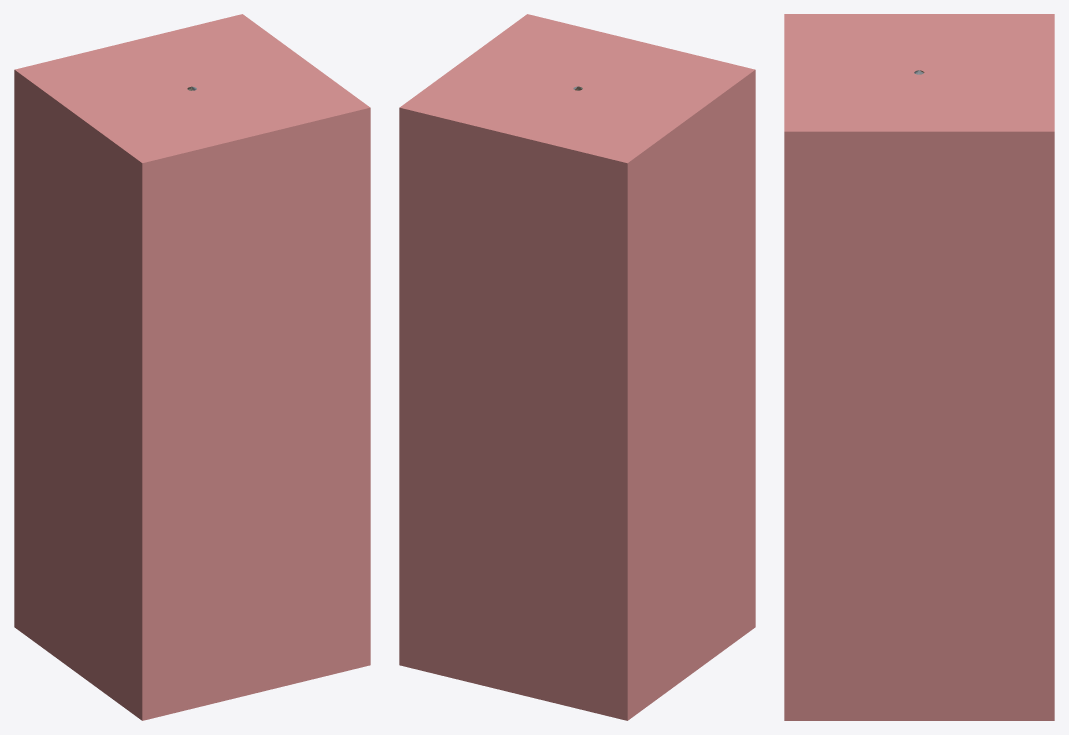
The model's file is watertower_unbroken.DAE.
The picture shows the model from 3 angles, left to right: view 1: azimuth 30°, elevation 25°; view 2: azimuth 150°, elevation 25°; view 3: azimuth 270°, elevation 25°; orthographic projection. The views are drawn at different scales.
Visible parts, largest first — view 1: bounds; view 2: bounds; view 3: bounds.
Part boxes in pixels (box(x1,y1,x2,y2)): bounds: box(14, 14, 370, 720); bounds: box(399, 14, 755, 720); bounds: box(784, 14, 1054, 720).
Size of the model in its own units: 4.41 by 4.28 by 10.34.
